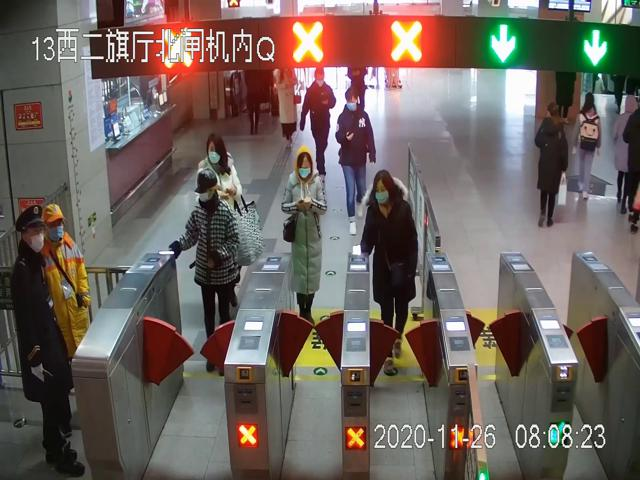person: (12, 205, 87, 477), (171, 169, 240, 376), (360, 169, 418, 376), (42, 202, 91, 437), (281, 145, 326, 326), (197, 134, 243, 308), (335, 88, 375, 236), (535, 100, 568, 226), (299, 68, 336, 179)
